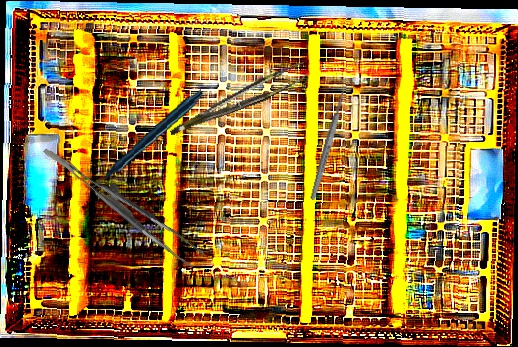Handpiece: (79, 88, 210, 190)
Surgical Spoon: (308, 77, 352, 201)
Tissue Forceps: (43, 124, 205, 282), (163, 61, 312, 136)
